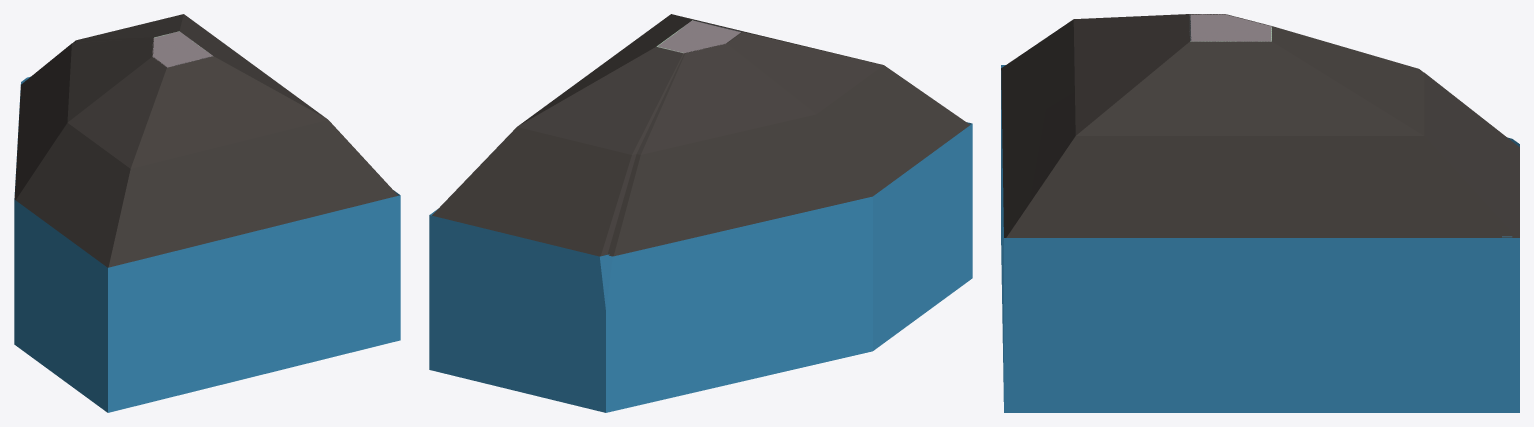
The model's file is renkliSahne003.fbx.
3 renders of one model, left to right at view 1: azimuth 30°, elevation 25°; view 2: azimuth 150°, elevation 25°; view 3: azimuth 270°, elevation 25°, orthographic. The views are drawn at different scales.
Parts seen in each view (by area): view 1: Cati, Studyo; view 2: Studyo, Cati; view 3: Cati, Studyo.
Boxes of the visible parts, x1,y1,x2,y2 form: Cati: (14, 14, 398, 267); Studyo: (14, 76, 400, 412); Studyo: (429, 122, 972, 412); Cati: (432, 14, 969, 256); Cati: (1001, 14, 1519, 237); Studyo: (1001, 65, 1519, 412).
Size of the model in its own units: 1885 by 1580 by 2390.
